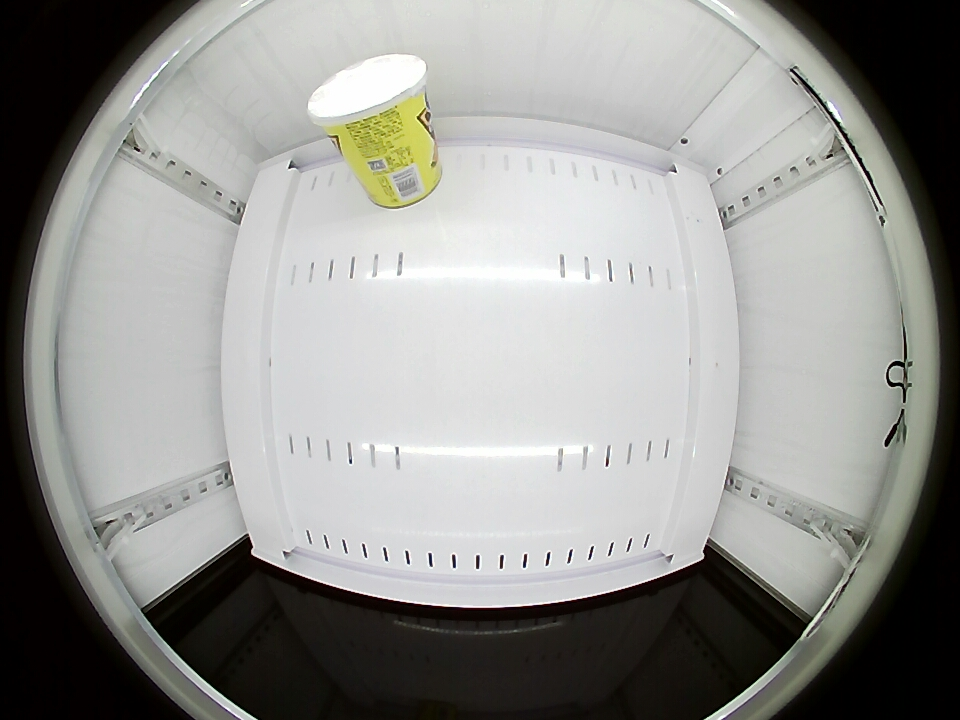kebike: (307, 54, 432, 142)
